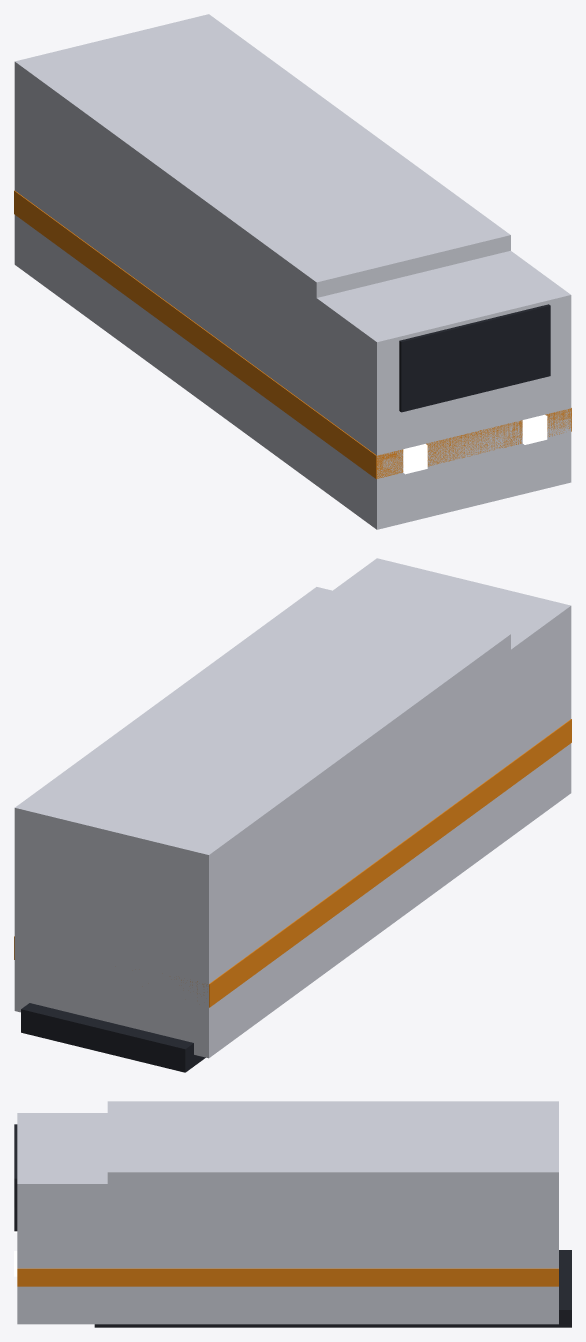
File: train_front_car.fbx
3 views of the same model, one above another, from view 1: azimuth 30°, elevation 25°; view 2: azimuth 150°, elevation 25°; view 3: azimuth 270°, elevation 25° (orthographic). The views are drawn at different scales.
Visible parts, largest first — view 1: train_front_car; view 2: train_front_car; view 3: train_front_car.
Part boxes in pixels (x1,y1,x2,y2): train_front_car: [14, 14, 571, 529]; train_front_car: [14, 558, 571, 1072]; train_front_car: [14, 1101, 571, 1327].
Size of the model in its own units: 2.62 by 2.75 by 8.65.
